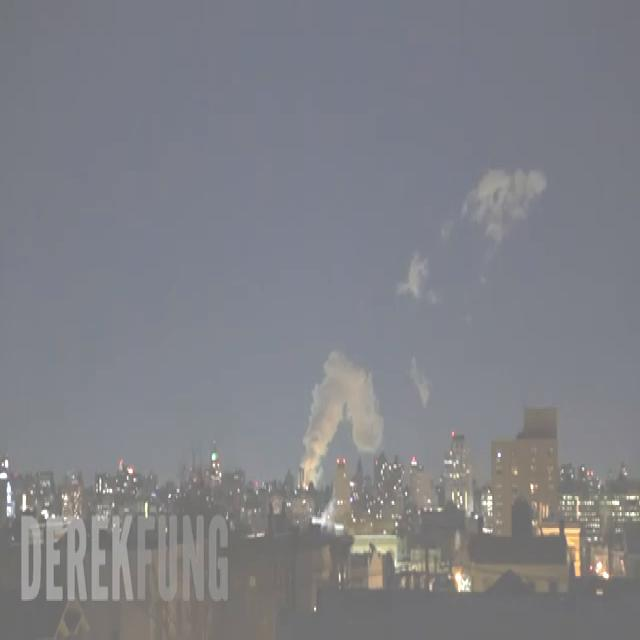smoke: (301, 350, 383, 478)
